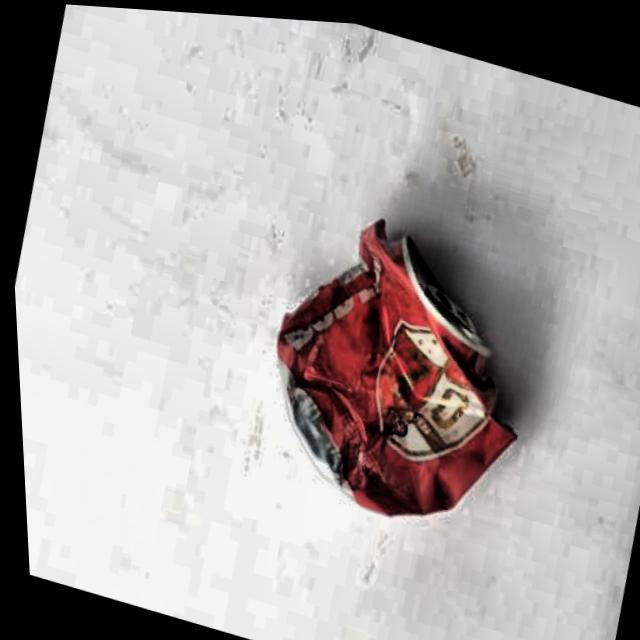Cans: (208, 167, 566, 562)
